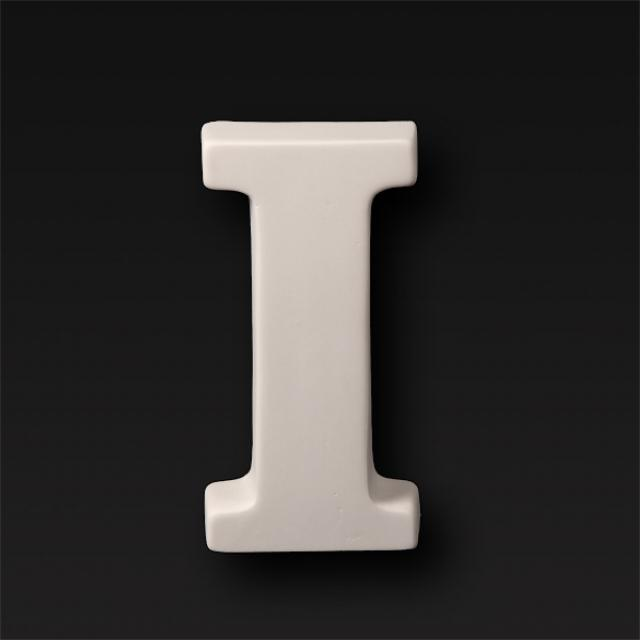I: (150, 75, 464, 607)
